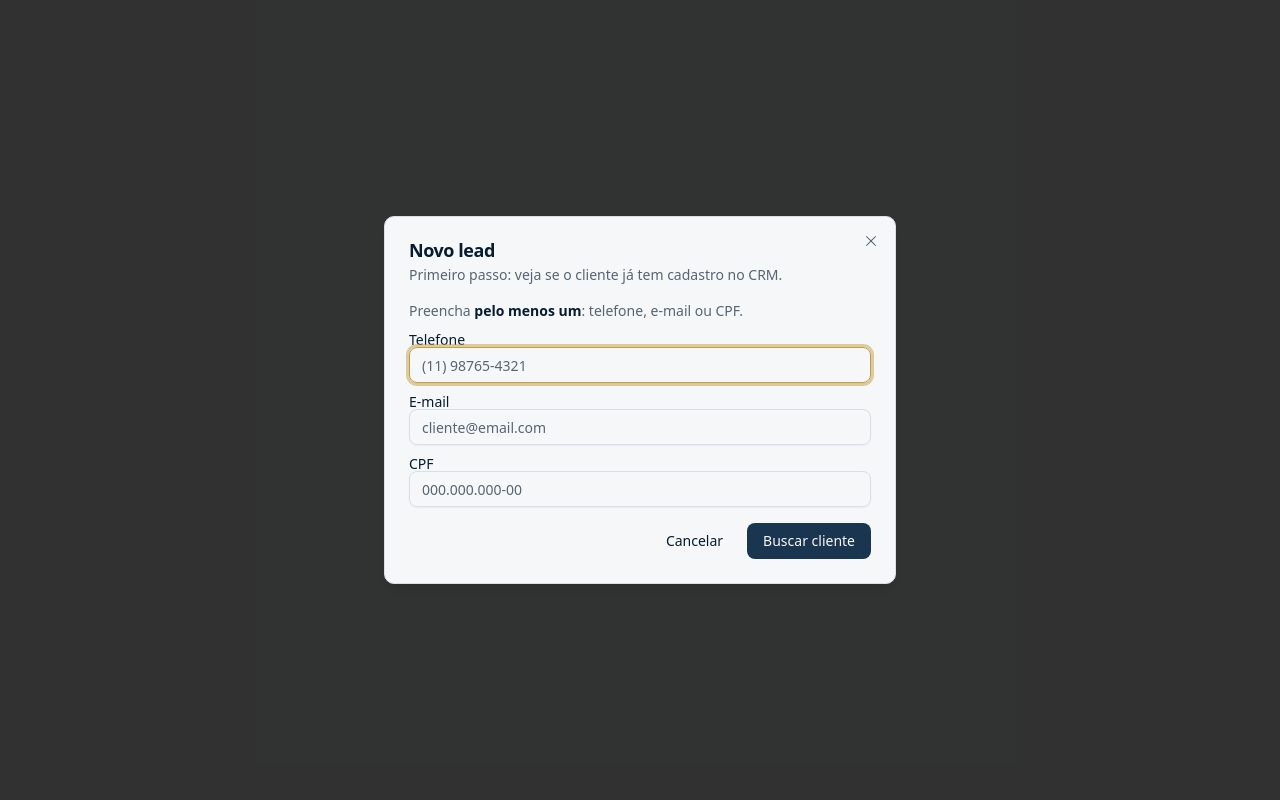
Test: Novo lead do corretor: a busca vem primeiro › voltar à busca a partir do cadastro
Type "11987654321" into the field labelled "Telefone" at (640, 365), box [409, 347, 871, 383]
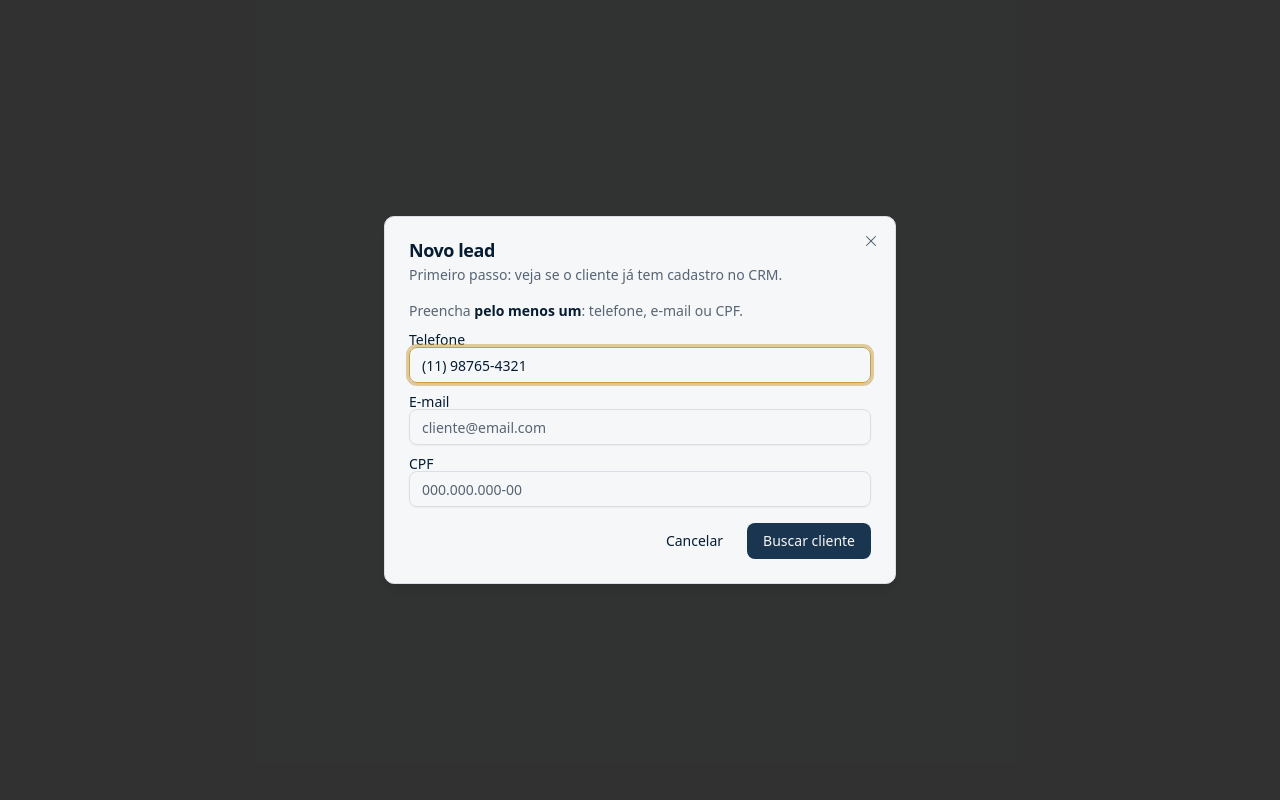
Click the button "Buscar cliente" at (809, 541), box [747, 523, 871, 559]
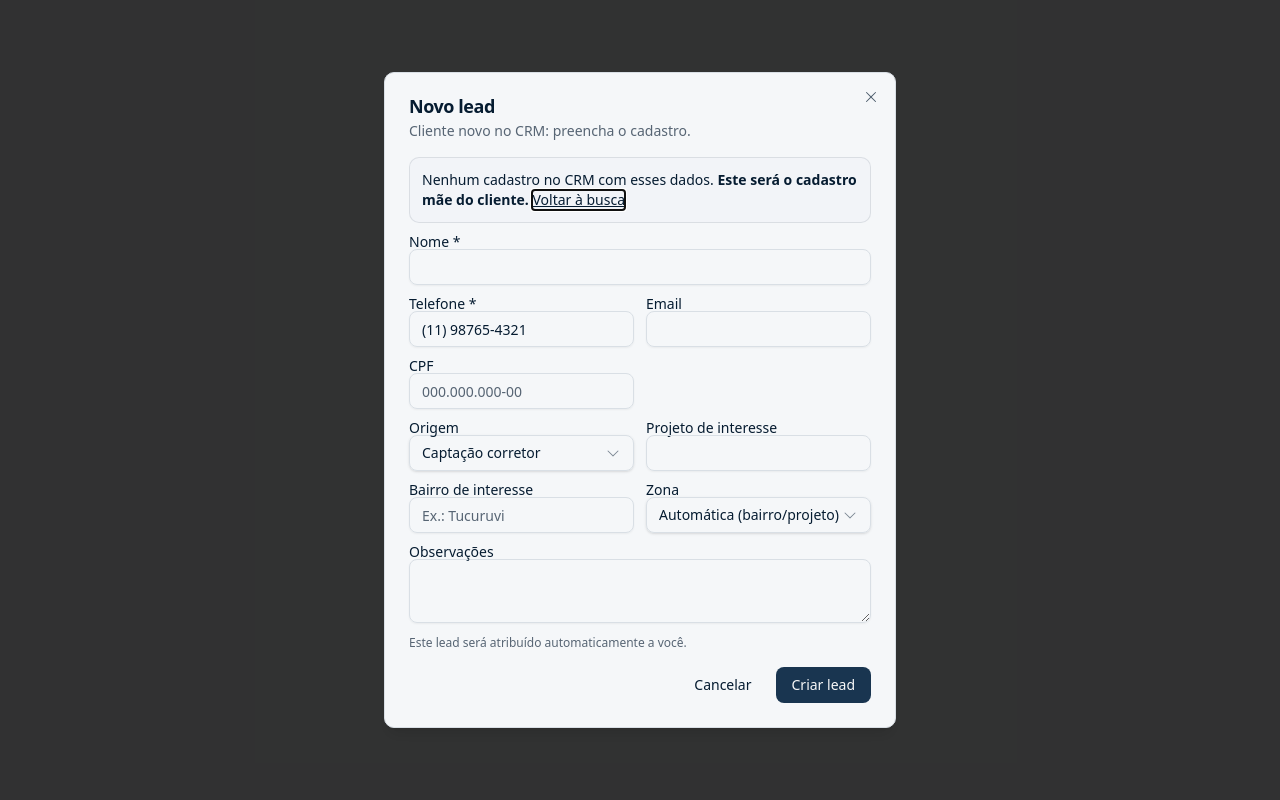
Expected: the message with test id "cadastro-mae" is shown, [409, 157, 871, 223]
Click the button "Voltar à busca" at (579, 200), box [532, 190, 625, 210]
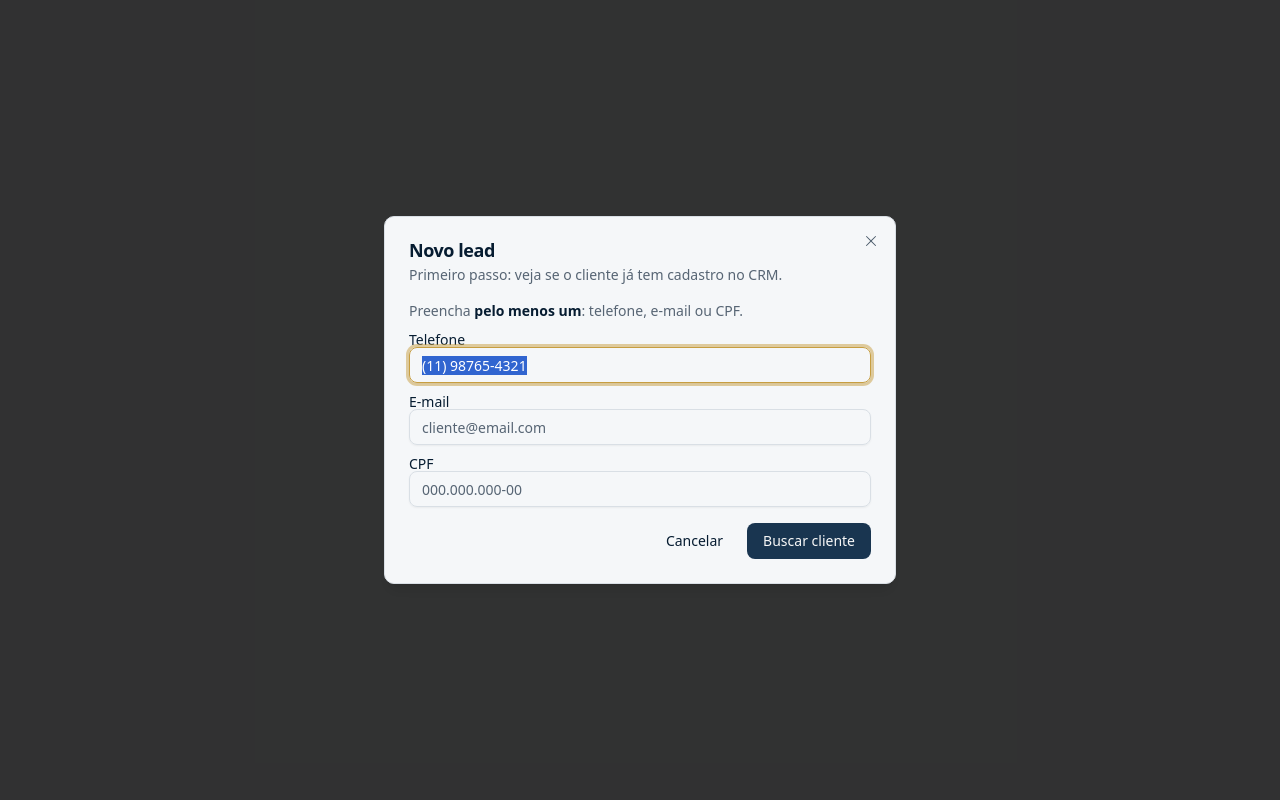
Expected: the field labelled "Telefone" holds "(11) 98765-4321", [409, 347, 871, 383]
